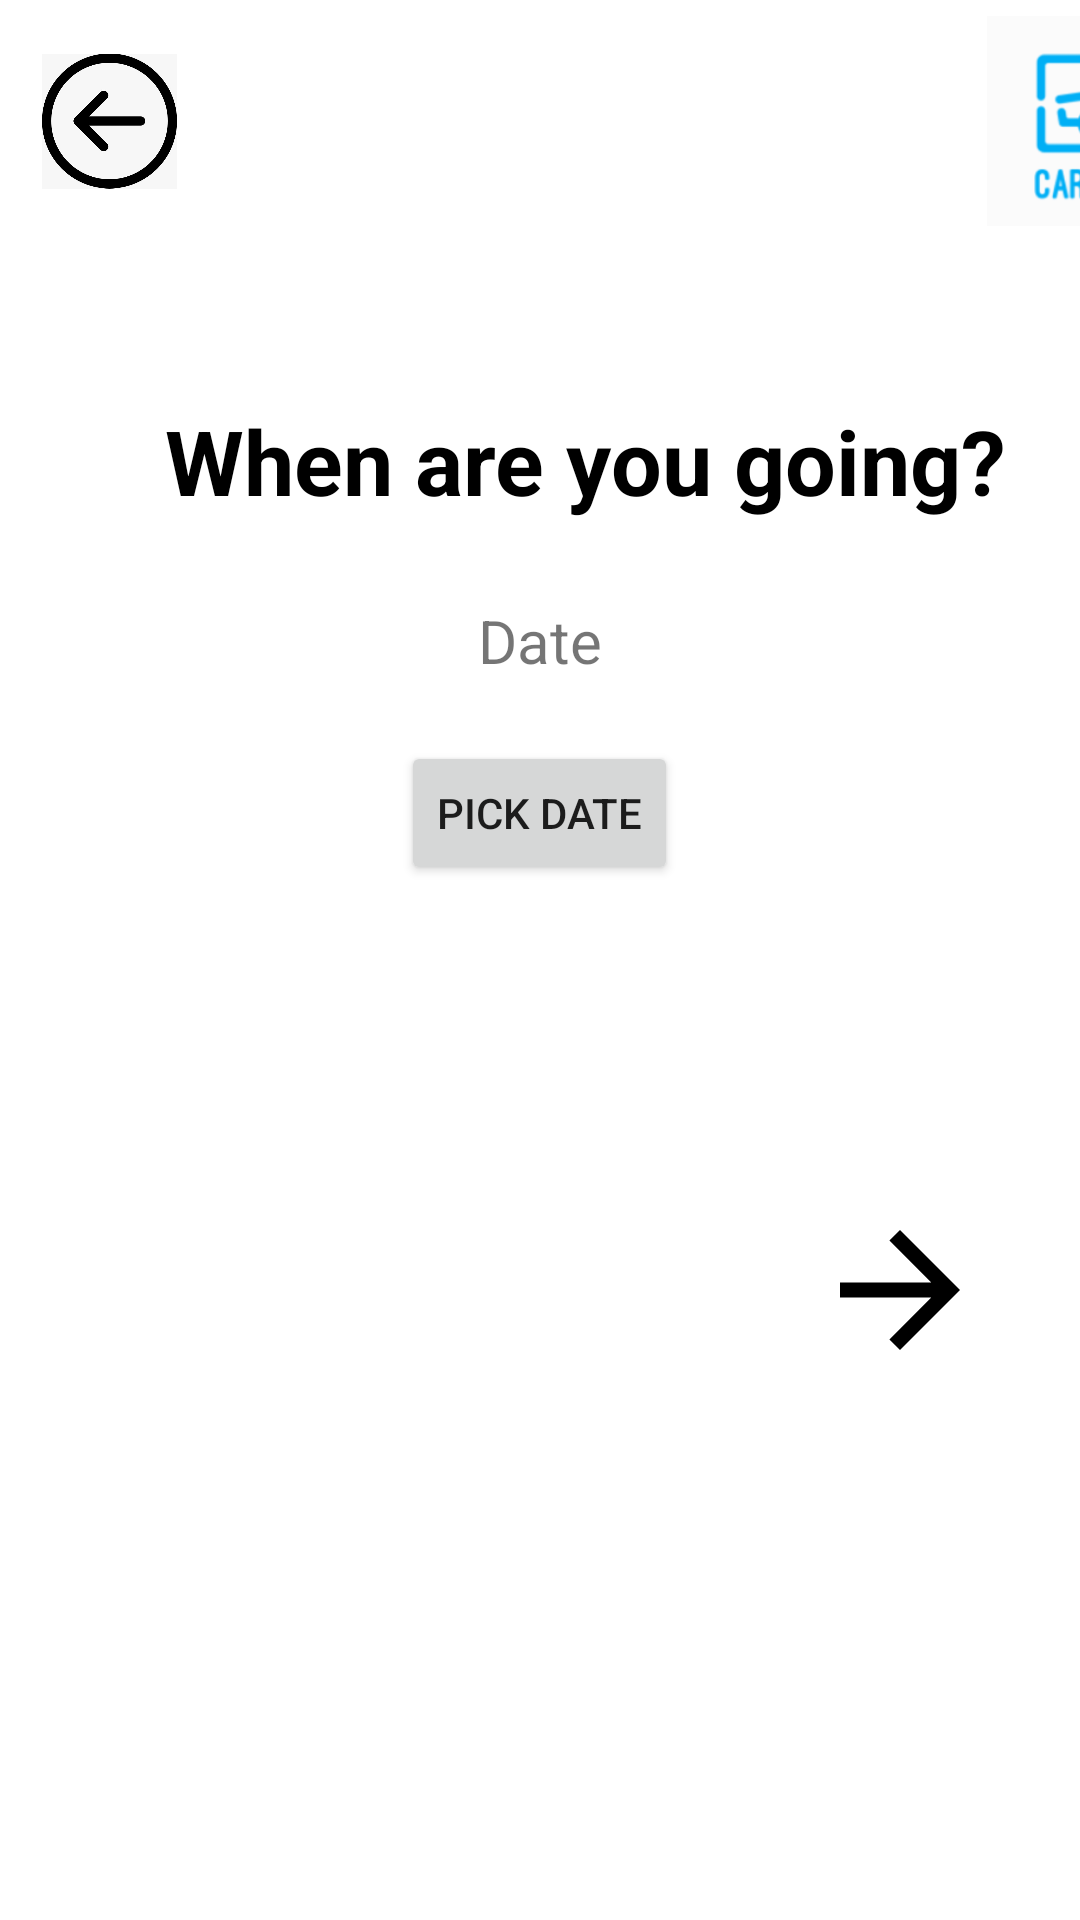

Screen size 1080×1920. Icon name, then its box in pixels as BBox(x1, y1, x2, y2):
next arrow: BBox(840, 1230, 960, 1350)
